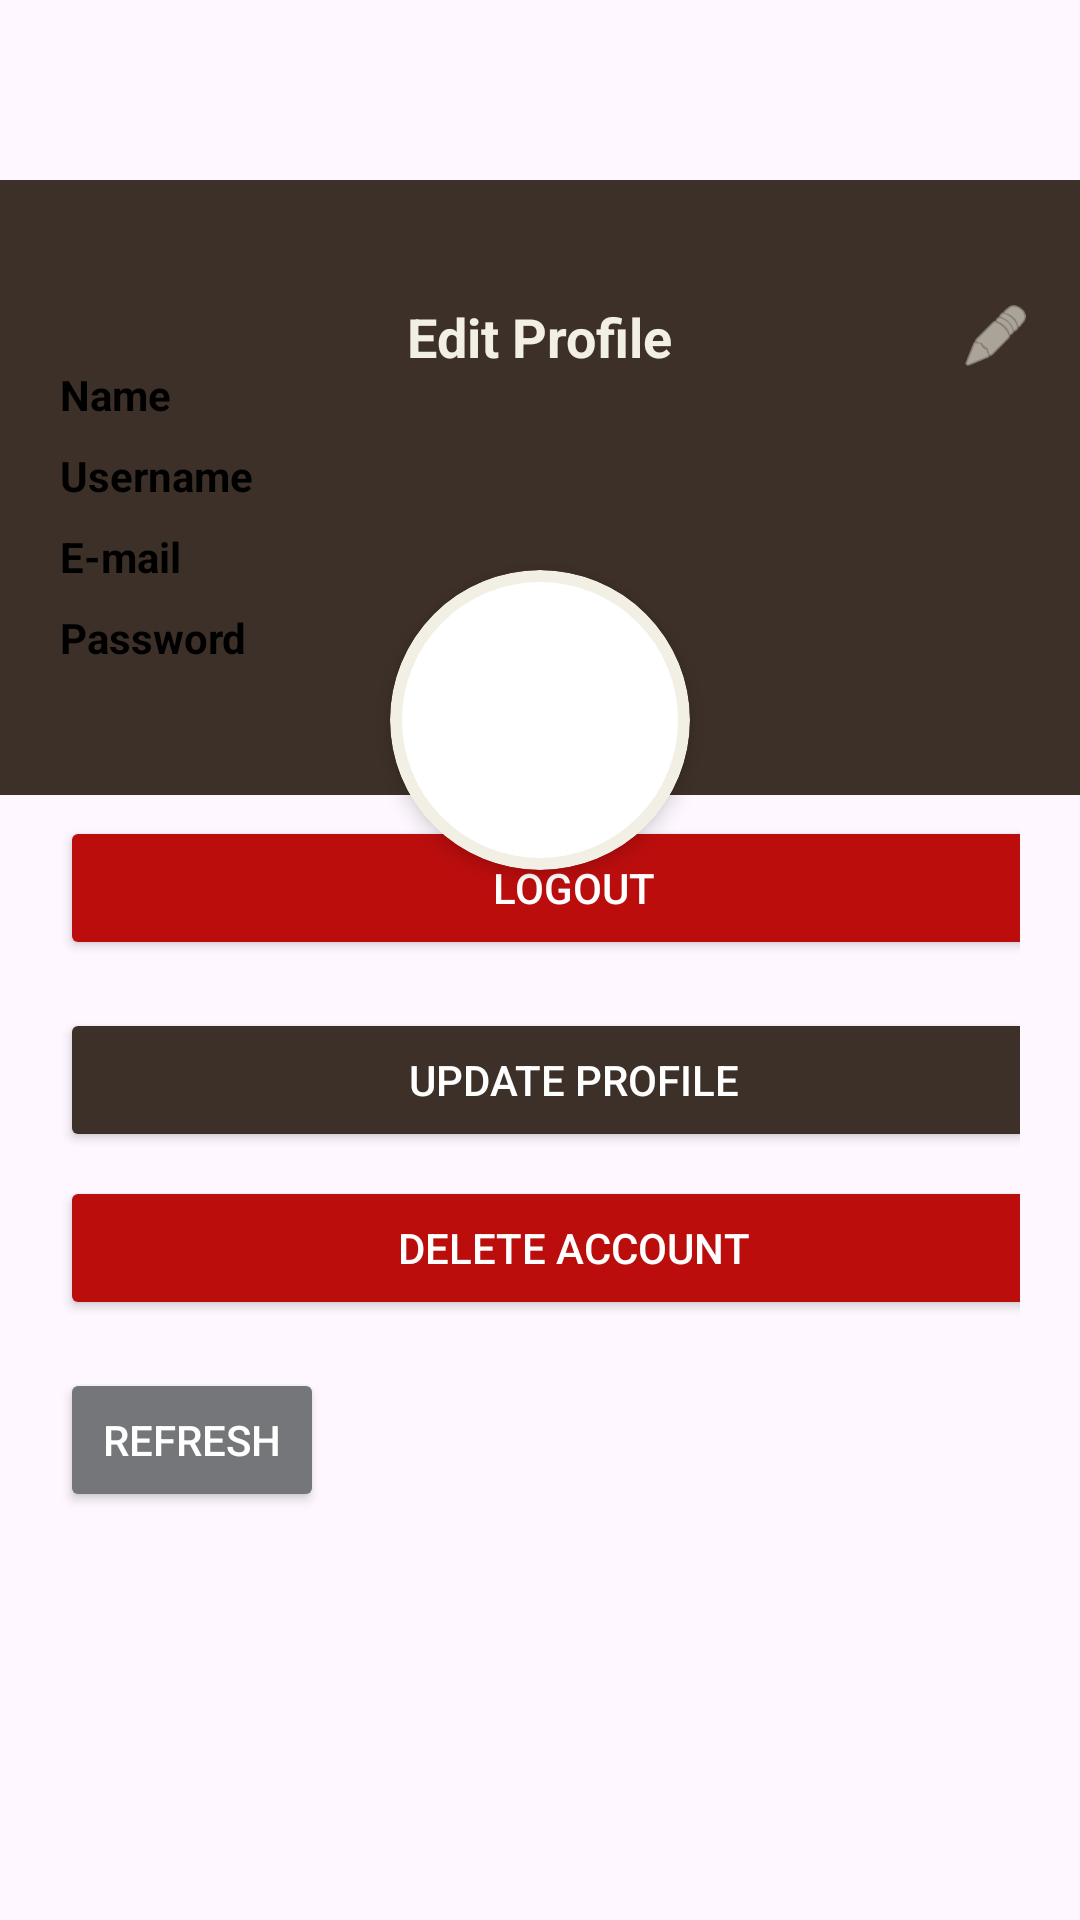

Icon click points for this 1080 × 1920 phone screenshot, format (x=x, y=y):
edit: (x=995, y=335)
